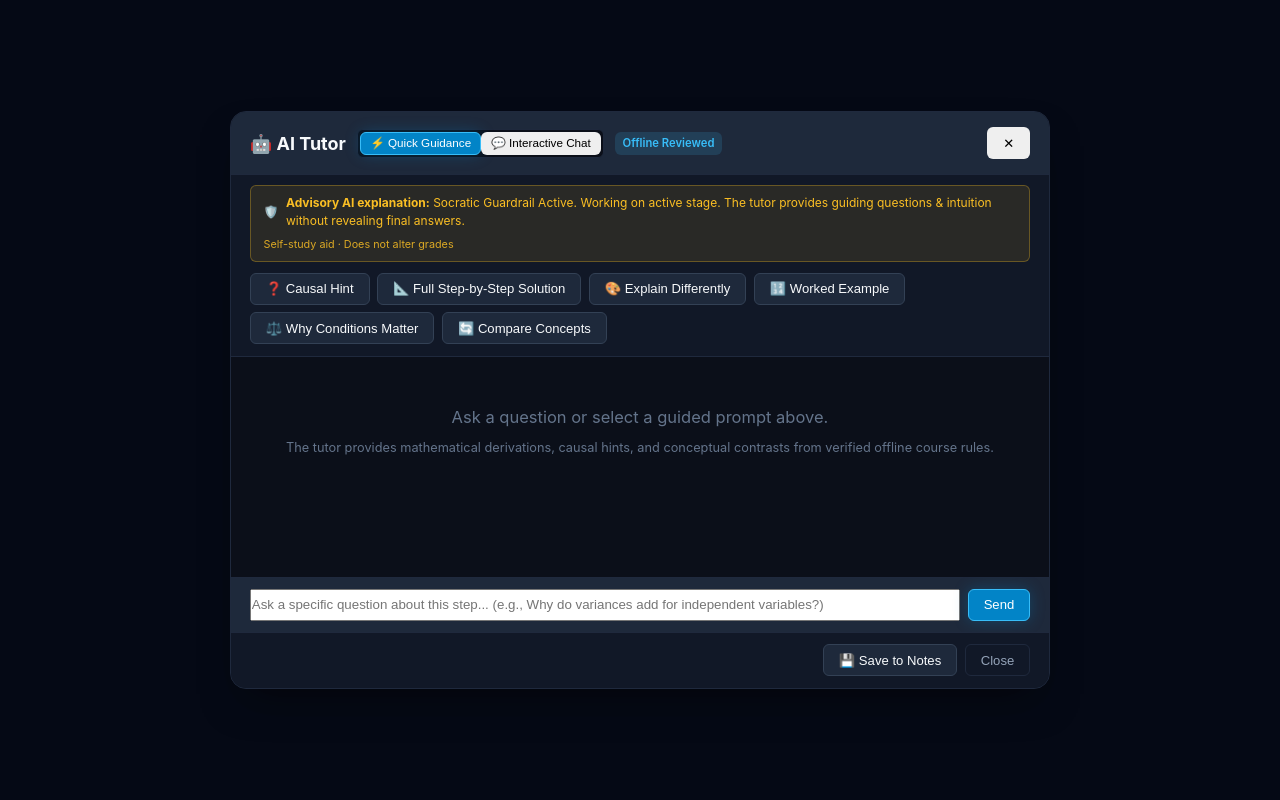
Scenario: AITutorPanel Component › initiates streaming request and renders completed explanation
The width and height of the screenshot is (1280, 800).
Click the button "📐 Full Step-by-Step Solution".
click(479, 289)  # box [377,273,581,305]
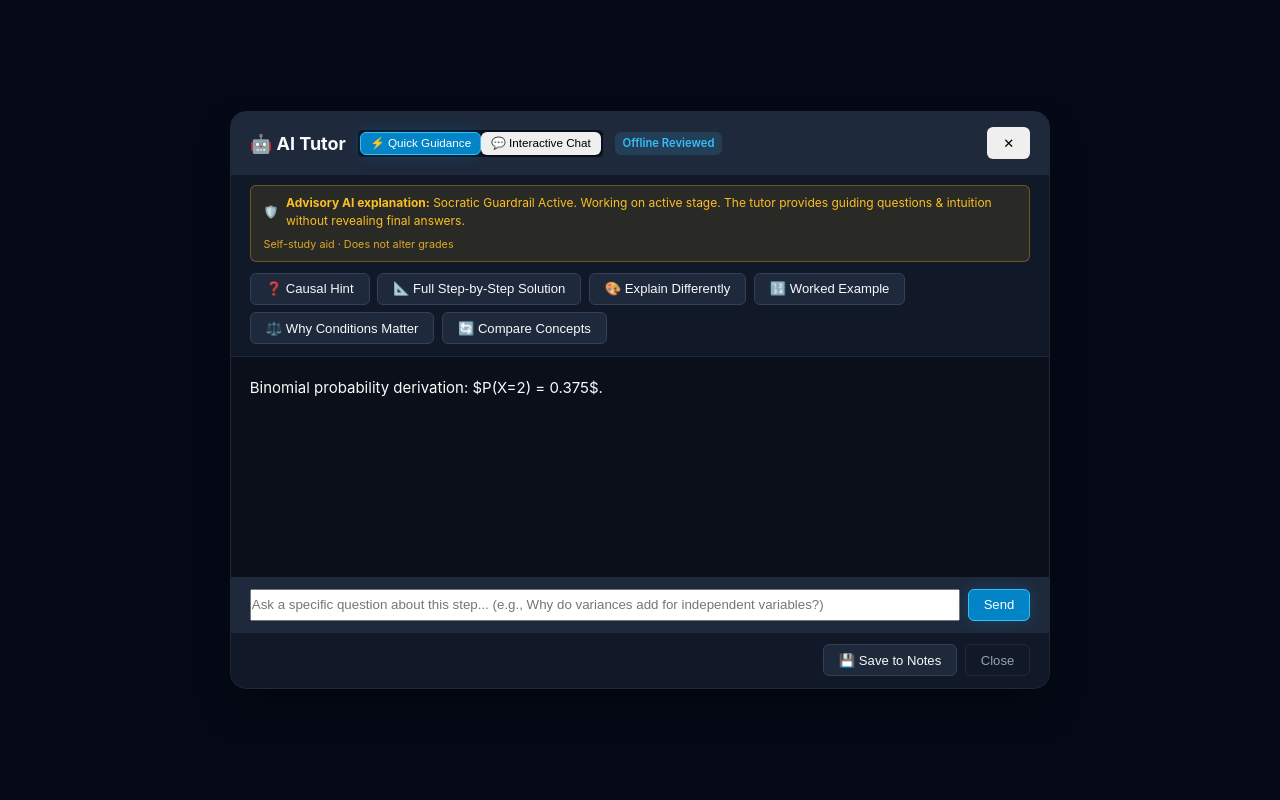
Check: the button "💾 Save to Notes" is shown, box [823,644,957,676]
Check: the text "Binomial probability derivation: $P(X=2) = 0.375$." is shown, box [250,378,603,398]
